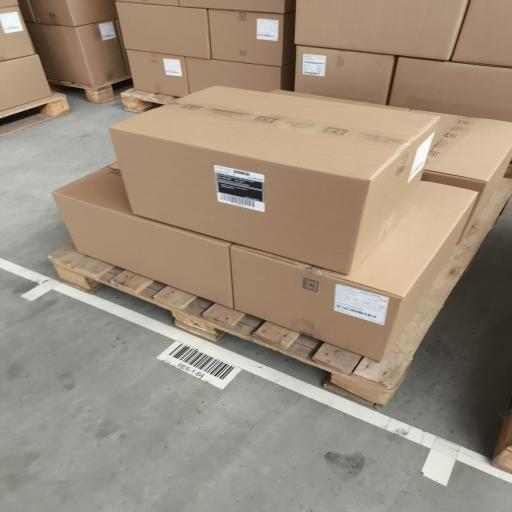pallet: (49, 179, 511, 406), (0, 93, 70, 136), (49, 76, 131, 103), (492, 400, 511, 473), (121, 89, 177, 113)
